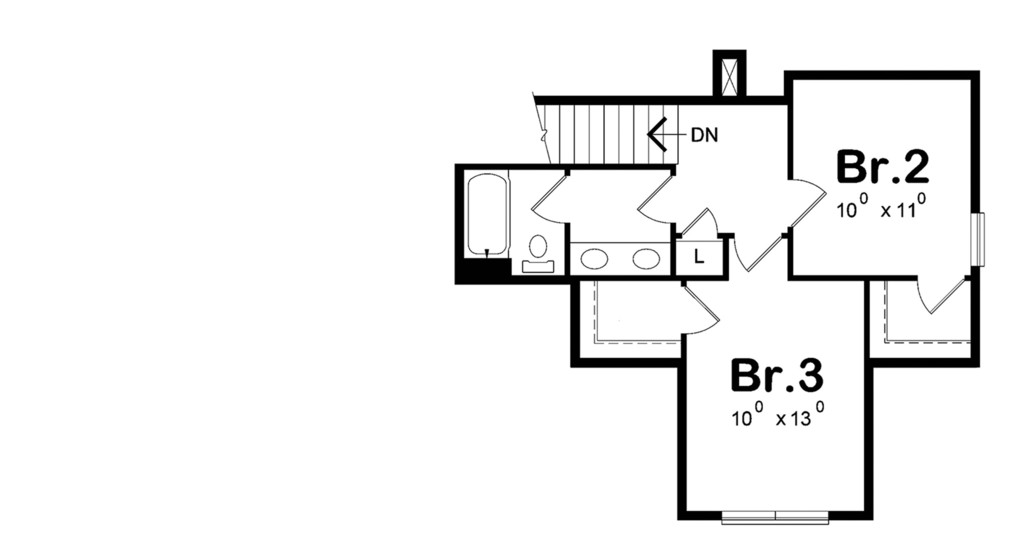door: (675, 284, 728, 338), (531, 163, 575, 227), (636, 166, 678, 228), (909, 274, 971, 316), (732, 234, 787, 270), (791, 177, 833, 223), (681, 206, 727, 237)
large_sink: (518, 232, 556, 276)
small_sink: (568, 244, 671, 278)
stairs: (522, 96, 705, 165)
tub: (464, 168, 514, 258)
window: (718, 506, 835, 533), (965, 210, 986, 268)
